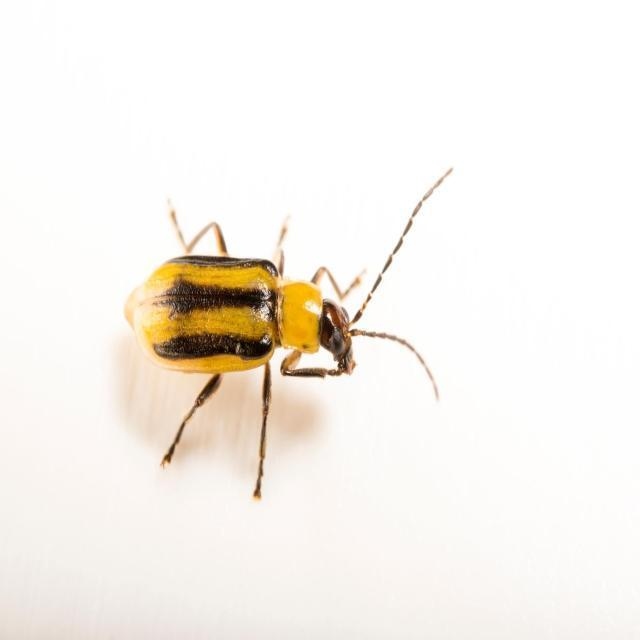trips: (120, 167, 453, 502)
